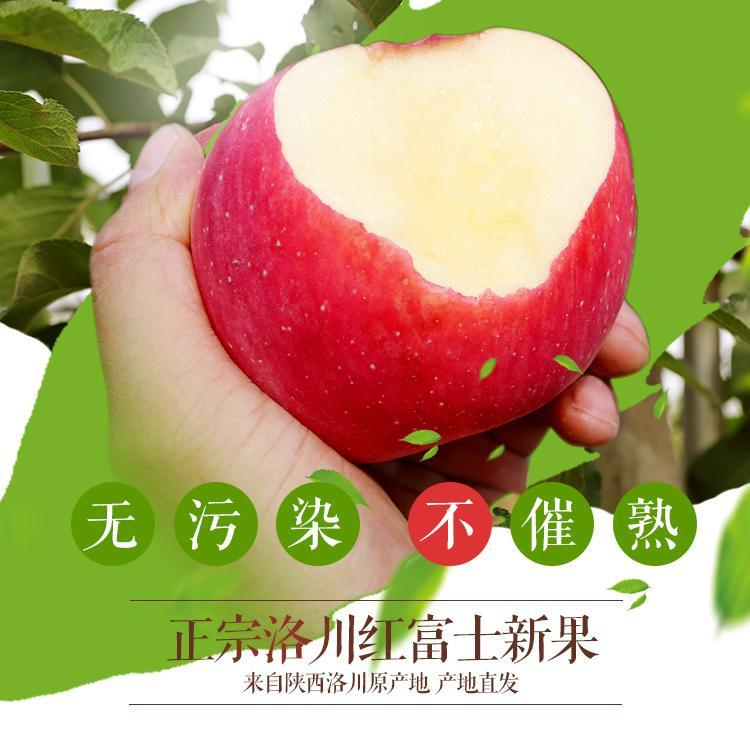apple: (187, 25, 638, 467)
